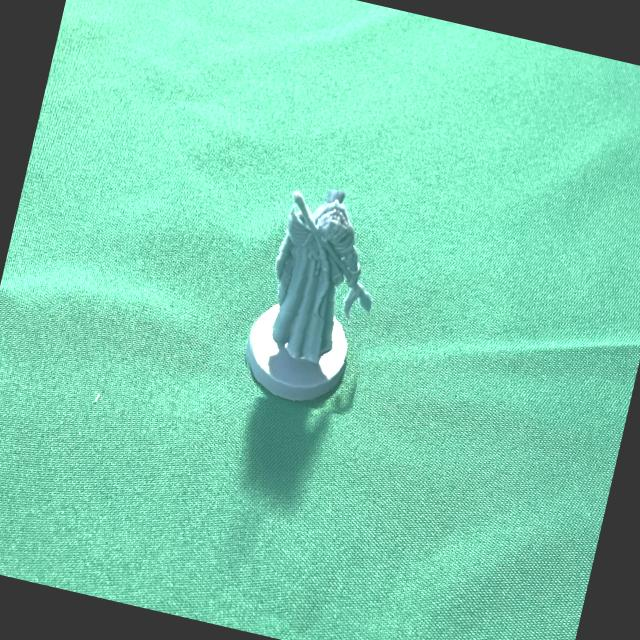isis_follower: (233, 176, 397, 418)
